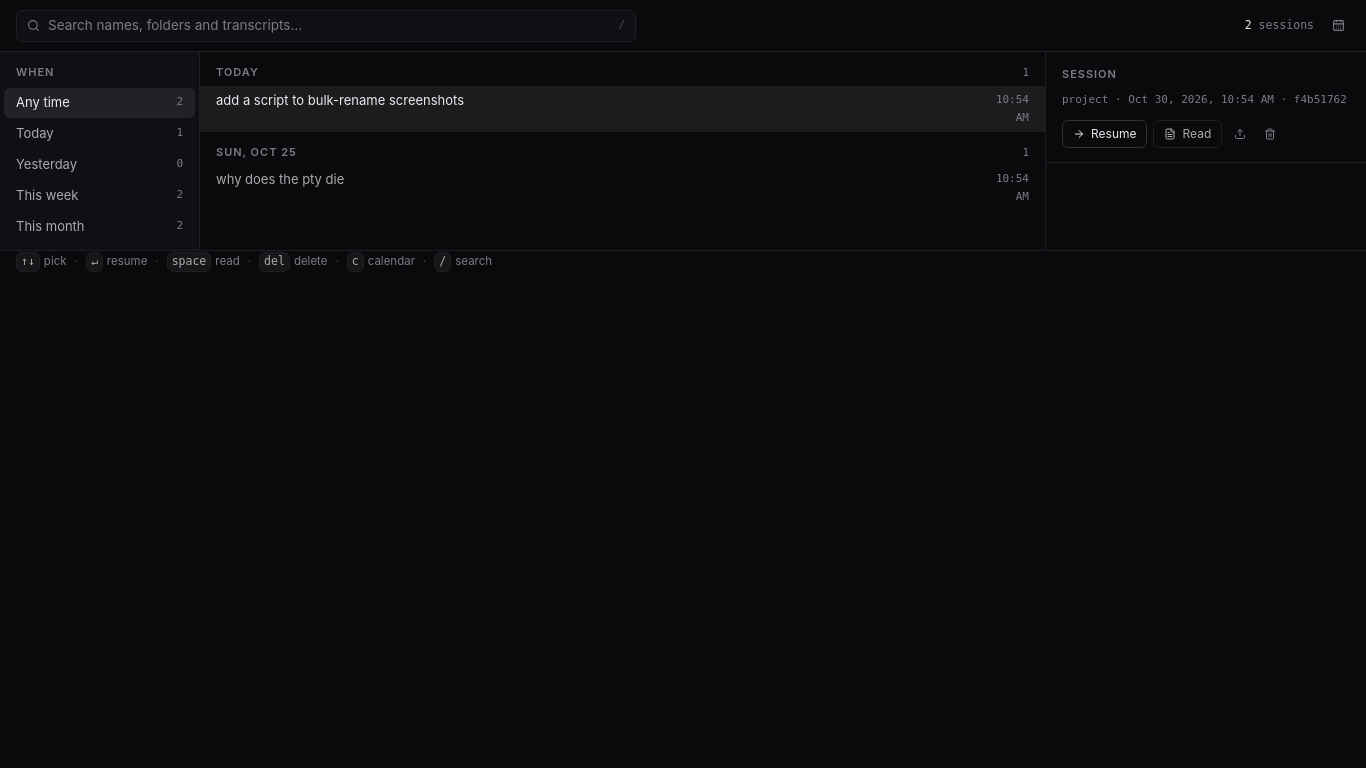
SessionHistoryPanel › the calendar › is hidden until asked for
Expected: the text "add a script to bulk-rename screenshots" is shown, [216,92,464,108]
Expected: the text "Sessions per day" is not shown
Click the button titled "Show the calendar (c)": (1338, 26) [1326,14,1350,38]
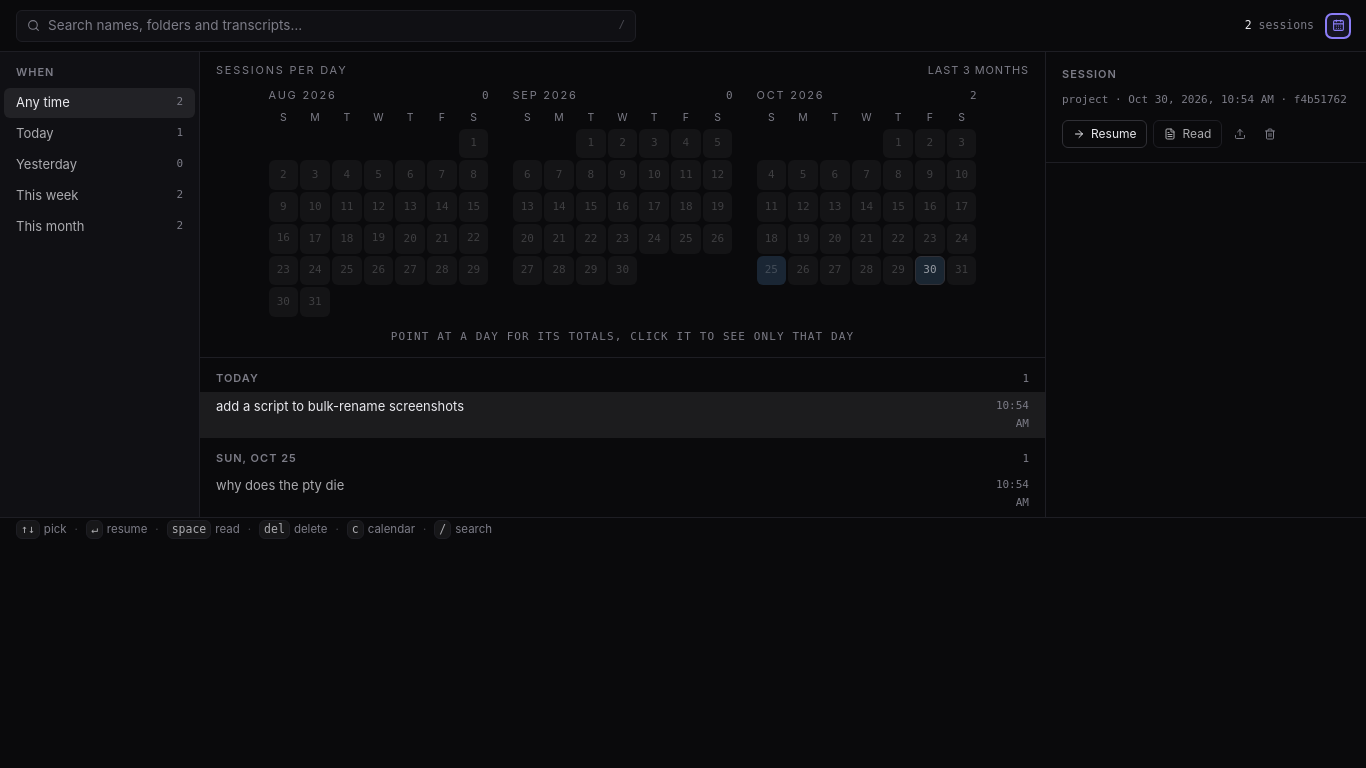
Result: the text "Sessions per day" is shown at [216,62,347,78]
Click the button titled "Hide the calendar (c)": (1338, 26) [1326,14,1350,38]
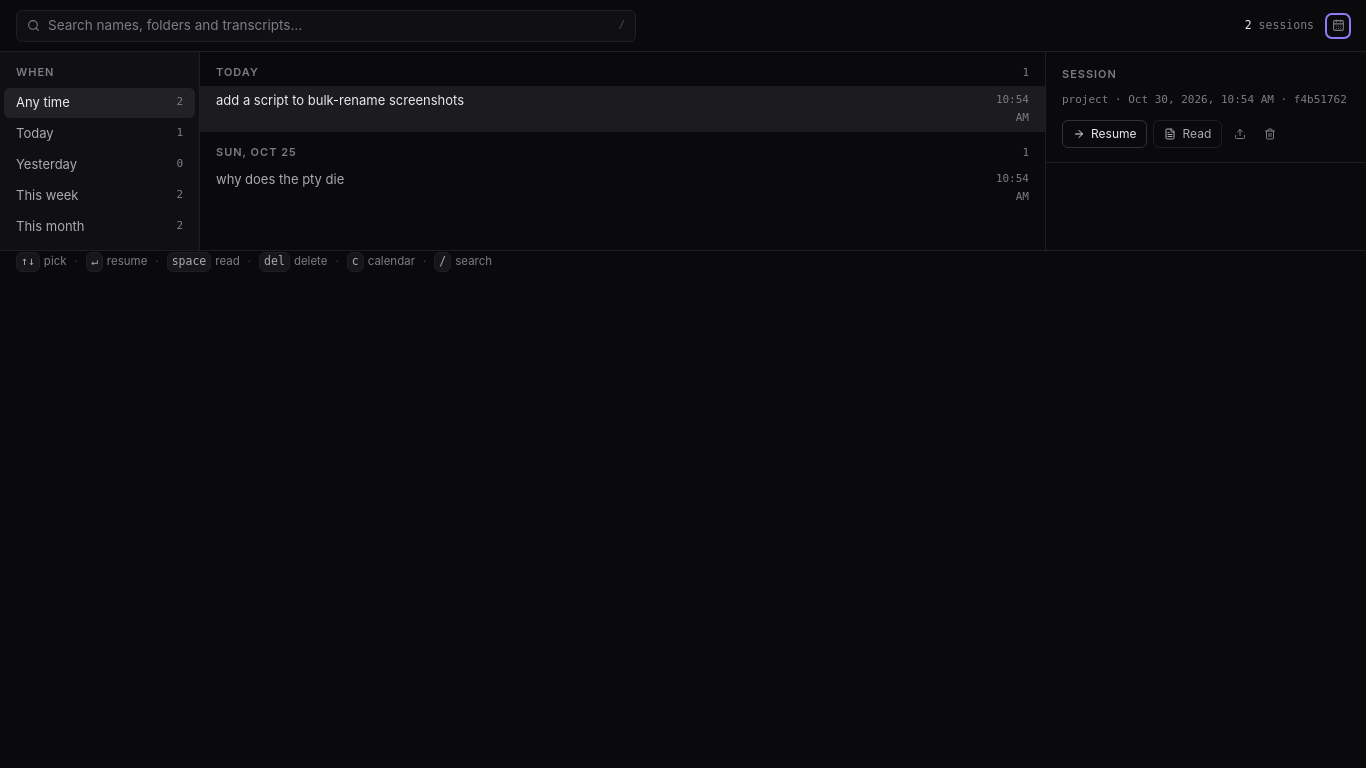
Result: the text "Sessions per day" is gone
